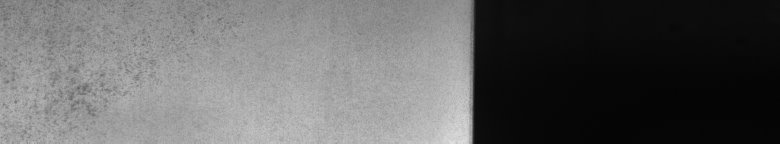ib: (4, 4, 204, 132)
